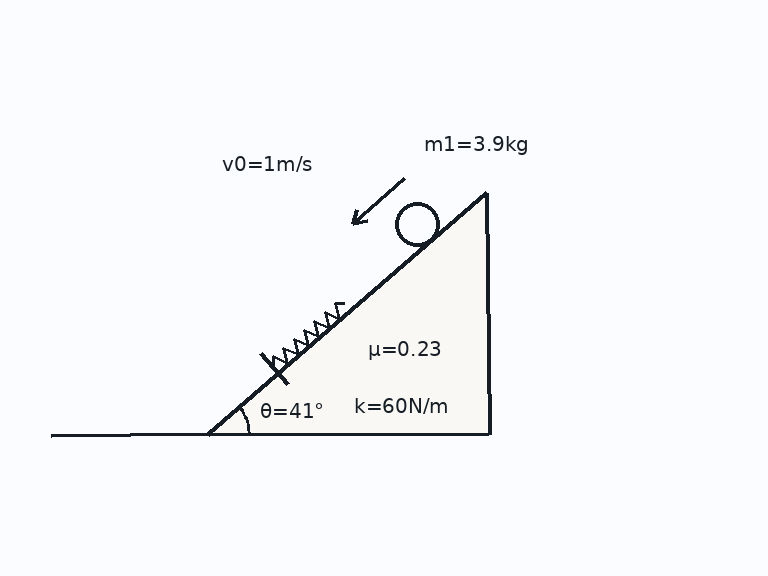ball: (393, 200, 441, 248)
ramp: (207, 191, 489, 436)
spring: (271, 301, 347, 369)
